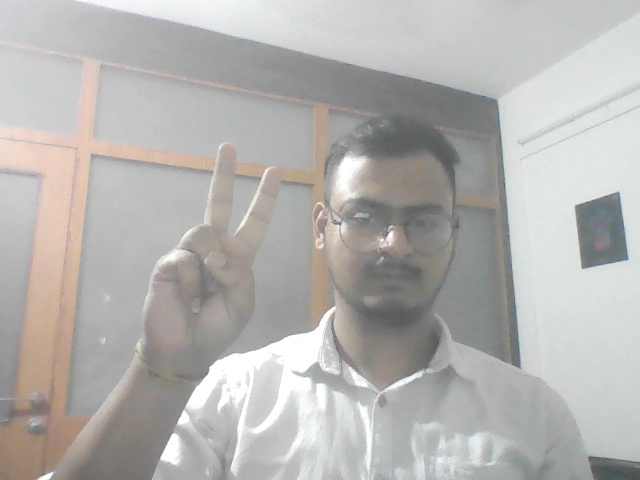Peace: (133, 137, 285, 371)
